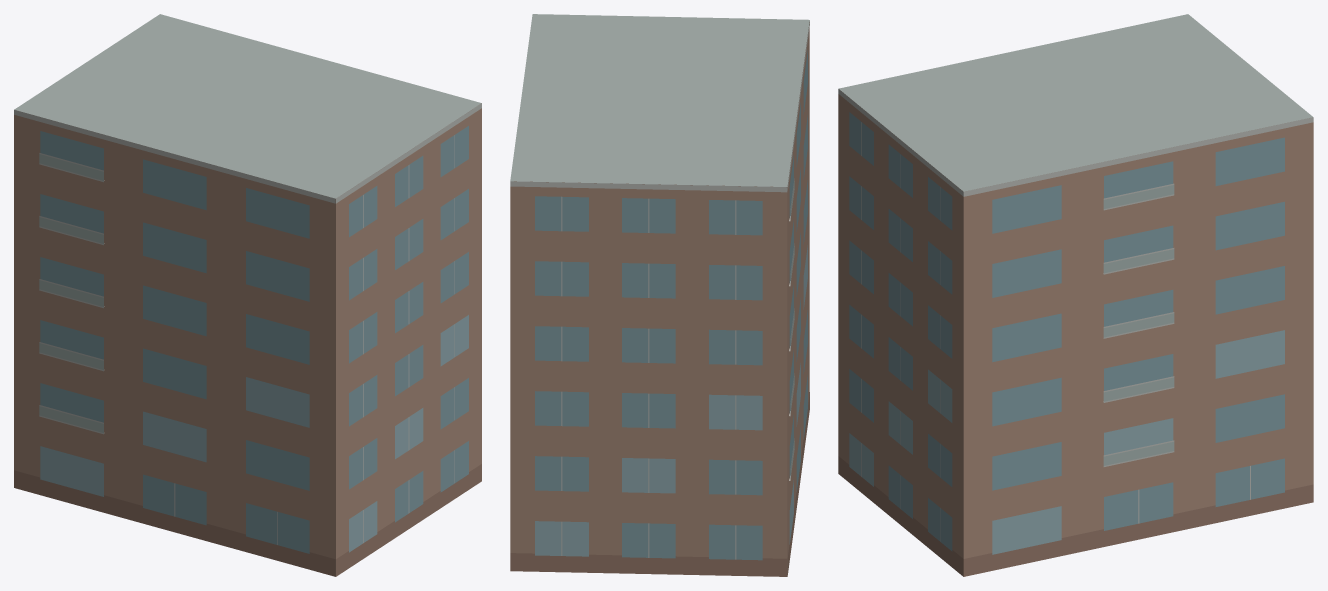
The model's file is survey-upis-32830676.glb.
The picture shows the model from 3 angles, left to right: view 1: azimuth 30°, elevation 25°; view 2: azimuth 150°, elevation 25°; view 3: azimuth 270°, elevation 25°; orthographic projection. The views are drawn at different scales.
Parts seen in each view (by area): view 1: survey-upis-32830676.tmp; view 2: survey-upis-32830676.tmp; view 3: survey-upis-32830676.tmp.
Part boxes in pixels (box(x1,y1,x2,y2)): survey-upis-32830676.tmp: box(14, 14, 481, 576); survey-upis-32830676.tmp: box(510, 14, 809, 576); survey-upis-32830676.tmp: box(838, 14, 1313, 576).
Size of the model in its own units: 18.12 by 18.3 by 20.46.
